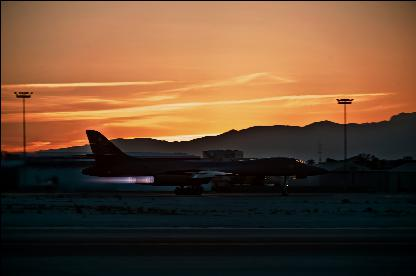AV8B: (60, 128, 330, 194)
